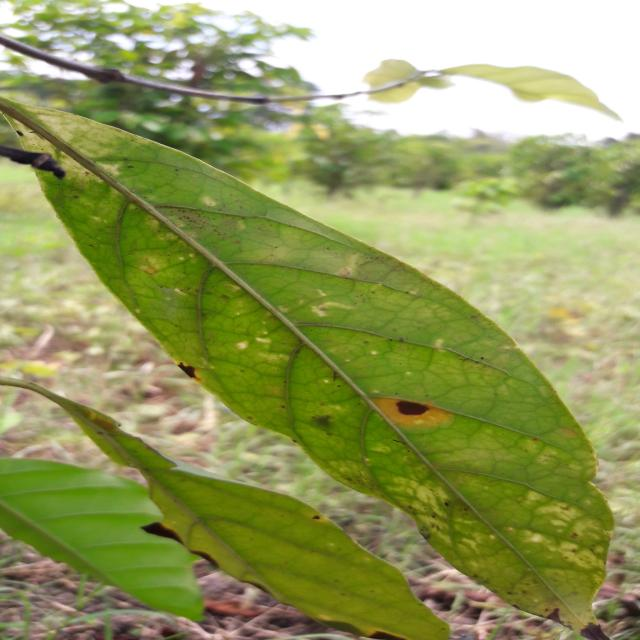Enfermedad-Roya: (0, 111, 618, 637)
